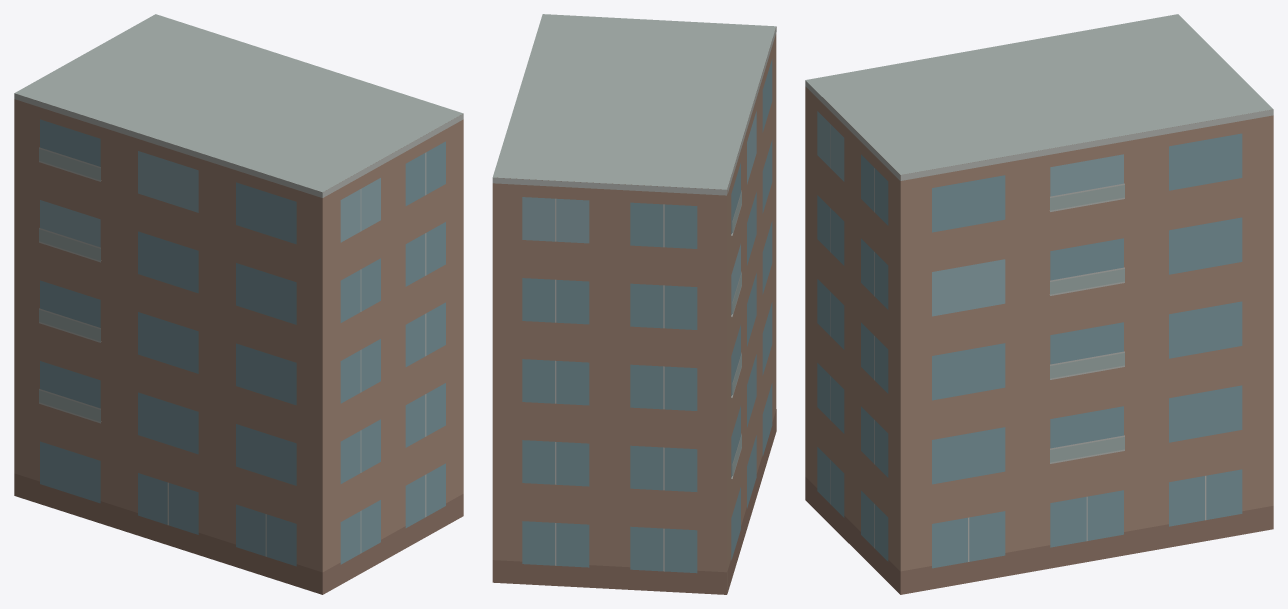
Rendered from survey-upis-32855542.glb.
3 views of the same model, side by side, from view 1: azimuth 30°, elevation 25°; view 2: azimuth 150°, elevation 25°; view 3: azimuth 270°, elevation 25° (orthographic). The views are drawn at different scales.
Parts seen in each view (by area): view 1: survey-upis-32855542.tmp; view 2: survey-upis-32855542.tmp; view 3: survey-upis-32855542.tmp.
Boxes of the visible parts, <box> form: survey-upis-32855542.tmp: <box>14,14,463,594</box>; survey-upis-32855542.tmp: <box>492,14,776,594</box>; survey-upis-32855542.tmp: <box>805,14,1273,594</box>.
Size of the model in its own units: 13.91 by 16.9 by 17.09.
